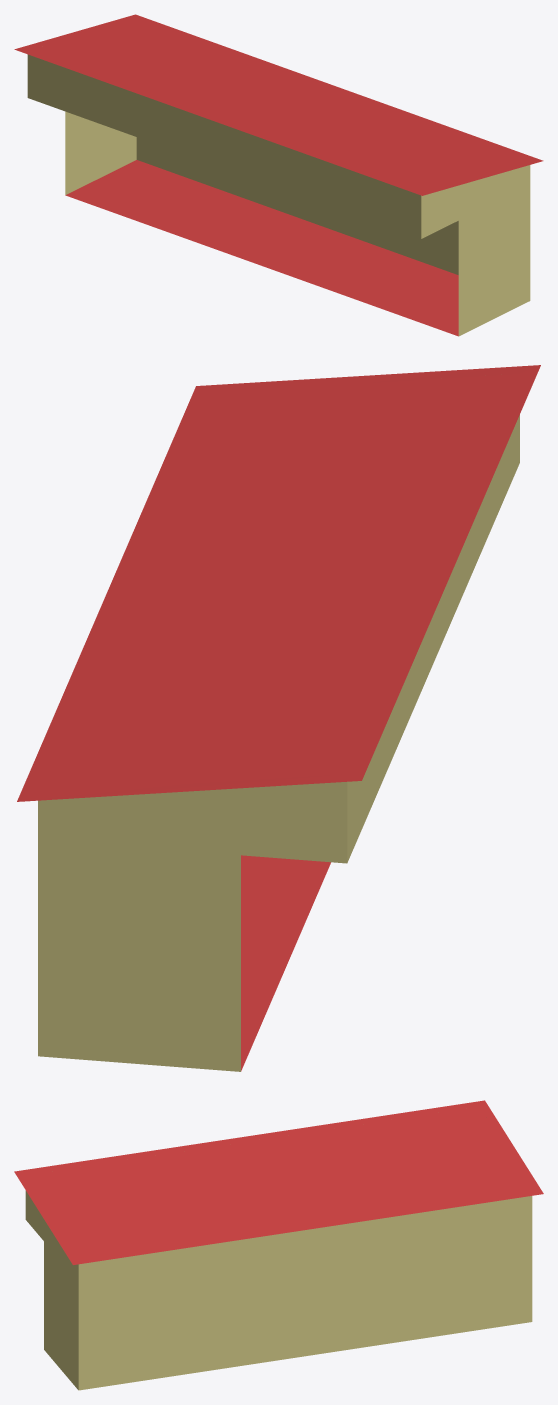
The picture shows the model from 3 angles, top to bottom: view 1: azimuth 30°, elevation 25°; view 2: azimuth 150°, elevation 25°; view 3: azimuth 270°, elevation 25°; orthographic projection. The views are drawn at different scales.
Size of the model in its own units: 27.38 by 43.51 by 13.96.
